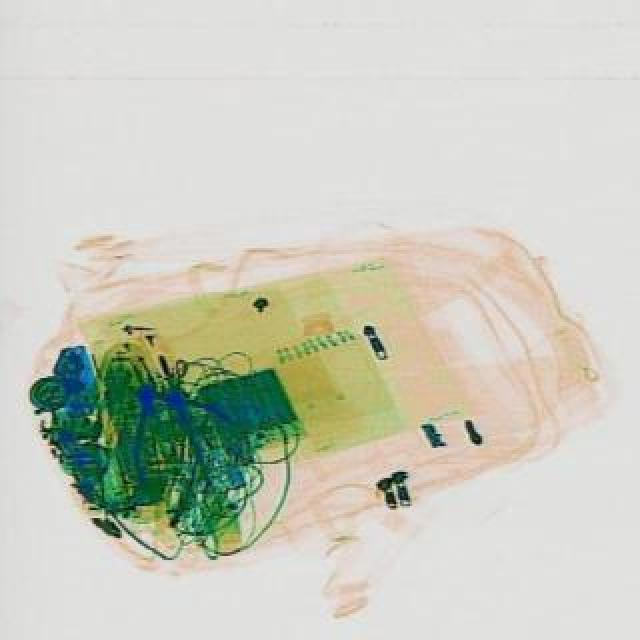wrench: (80, 338, 236, 480)
